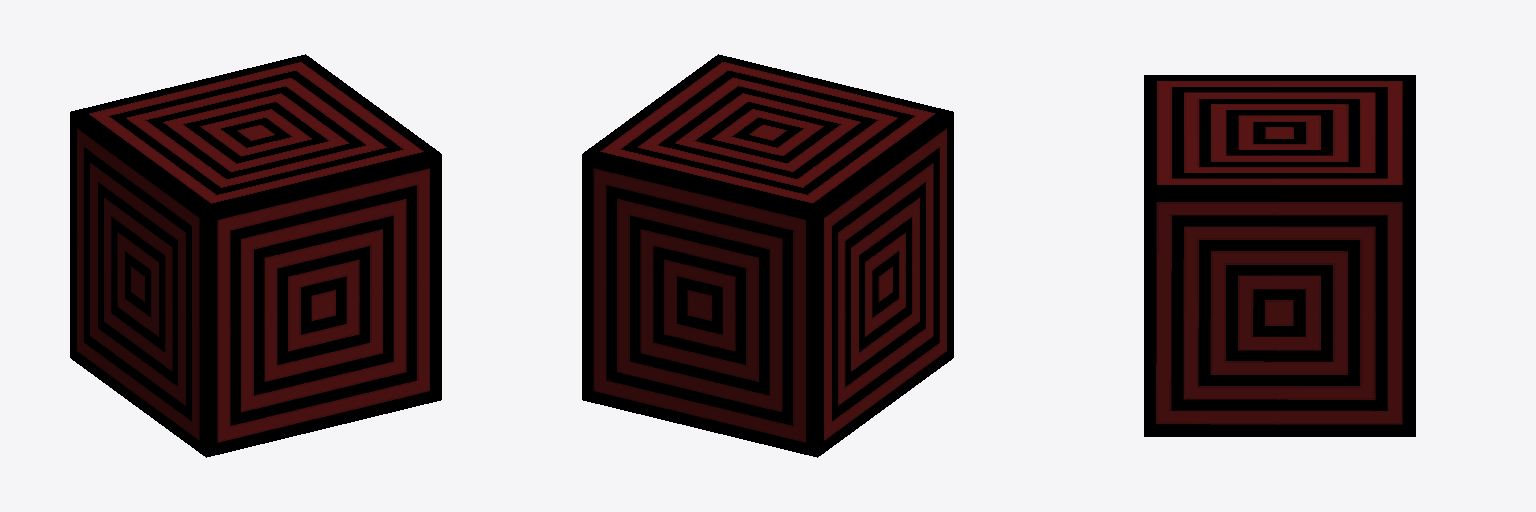
3 renders of one model, left to right at view 1: azimuth 30°, elevation 25°; view 2: azimuth 150°, elevation 25°; view 3: azimuth 270°, elevation 25°, orthographic.
Parts seen in each view (by area): view 1: Cube; view 2: Cube; view 3: Cube.
Part boxes in pixels (bbox=[...]): Cube: bbox=[70, 54, 441, 457]; Cube: bbox=[582, 54, 953, 457]; Cube: bbox=[1144, 75, 1415, 436].
Bounding box in the file's own units: 6 × 6 × 6.
Materials: 1 (1 with a texture image).